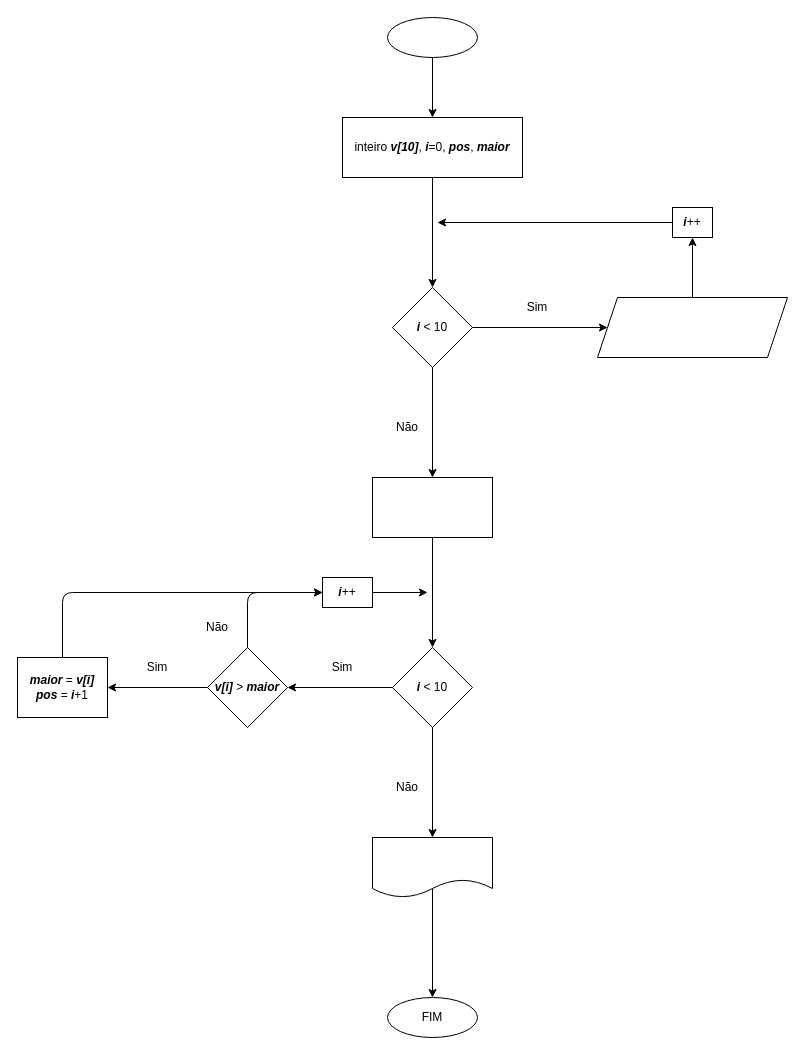
Image size: 805x1055. Some labels were removed from this diagram. The box of each missing label's shape, as (x1, y1, x2, y2) in pixels:
INÍCIO: (386, 16, 478, 58)
Ler valor para a variável v[i]: (596, 296, 788, 358)
maior = v[0] pos = 1 i = 0: (372, 476, 492, 538)
Mostra maior e pos: (372, 836, 492, 898)
